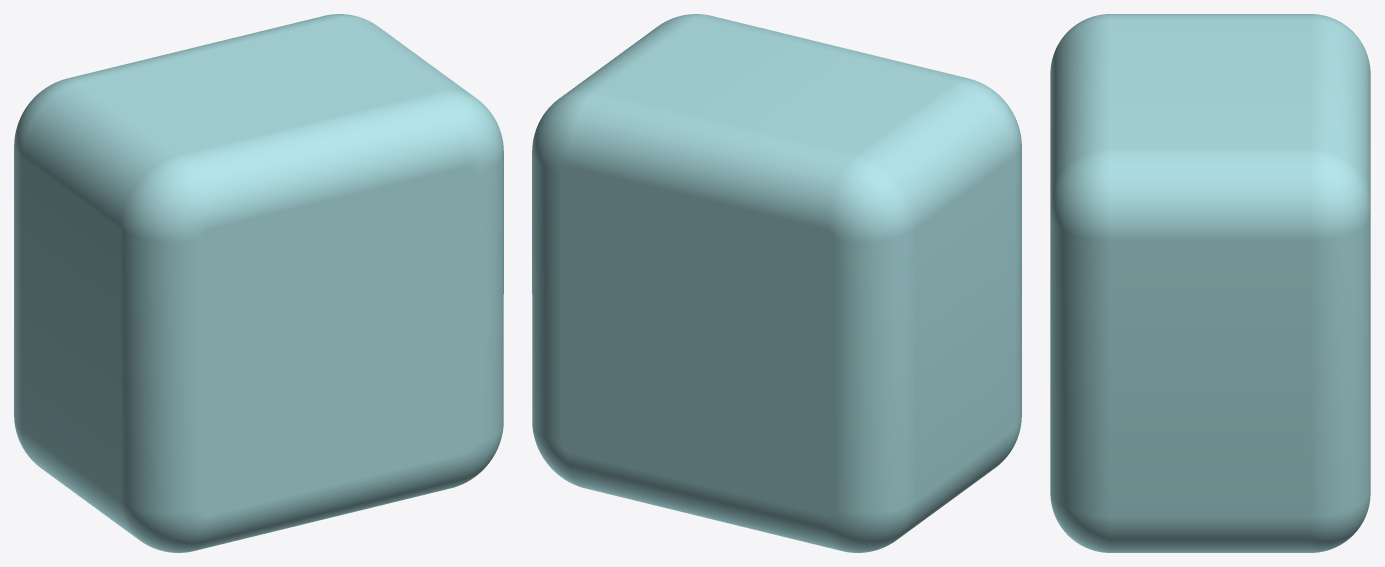
Rendered from cube_dae2.dae.
3 views of the same model, side by side, from view 1: azimuth 30°, elevation 25°; view 2: azimuth 150°, elevation 25°; view 3: azimuth 270°, elevation 25° (orthographic).
Visible parts, largest first — view 1: cube9; view 2: cube9; view 3: cube9.
Part boxes in pixels (x1,y1,x2,y2): cube9: [14, 14, 503, 552]; cube9: [532, 14, 1021, 552]; cube9: [1050, 14, 1370, 552].
Size of the model in its own units: 8.8 by 6.4 by 8.8.
